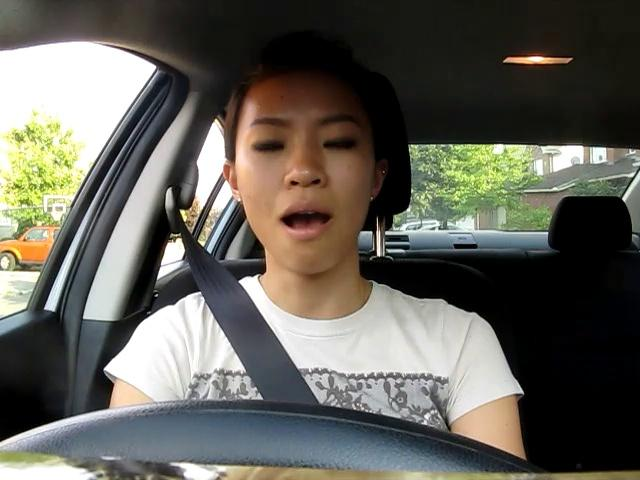close_eyeL: (240, 130, 298, 165)
close_eyeR: (308, 131, 374, 164)
yawn: (261, 194, 351, 244)
